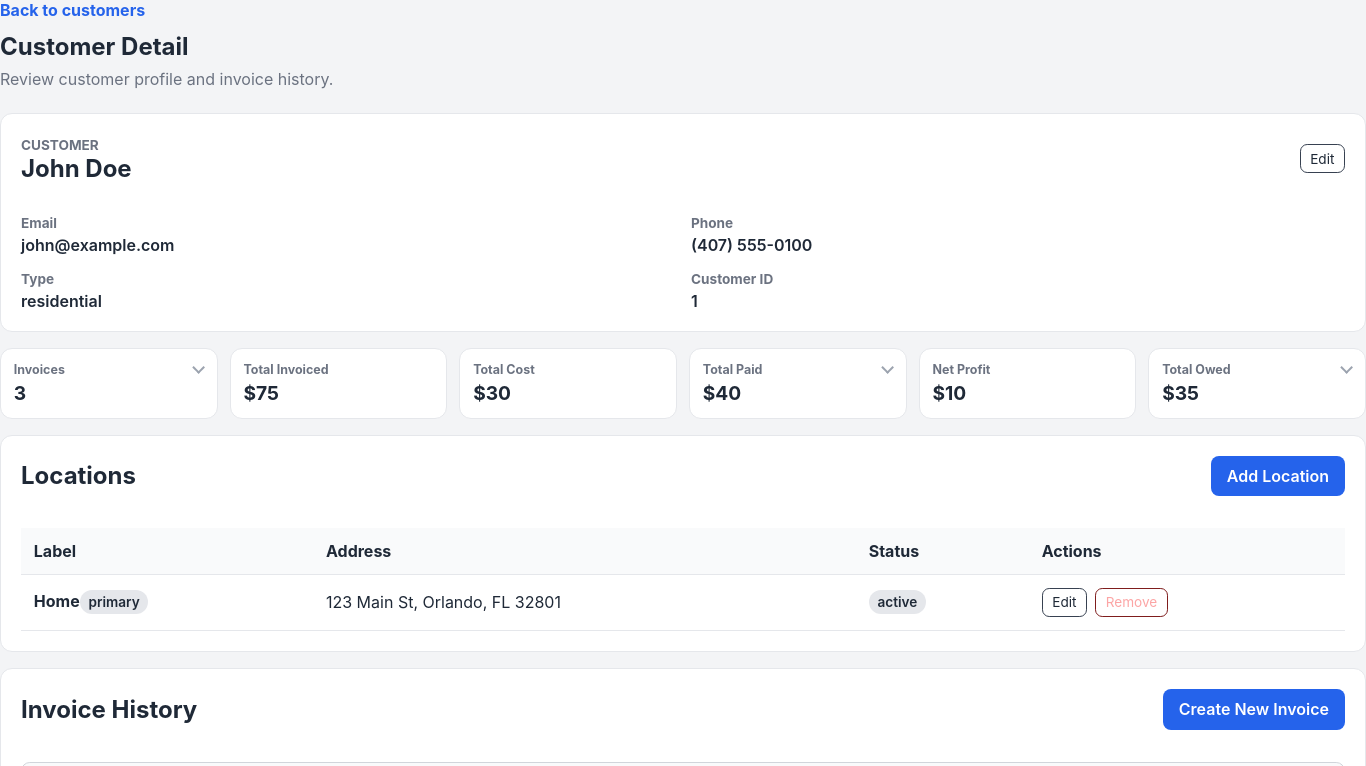
Test: CustomerDetailPage › opens an add location dialog from the locations section
The width and height of the screenshot is (1366, 766).
Click the button "Add Location": (1278, 476) [1211, 456, 1345, 496]
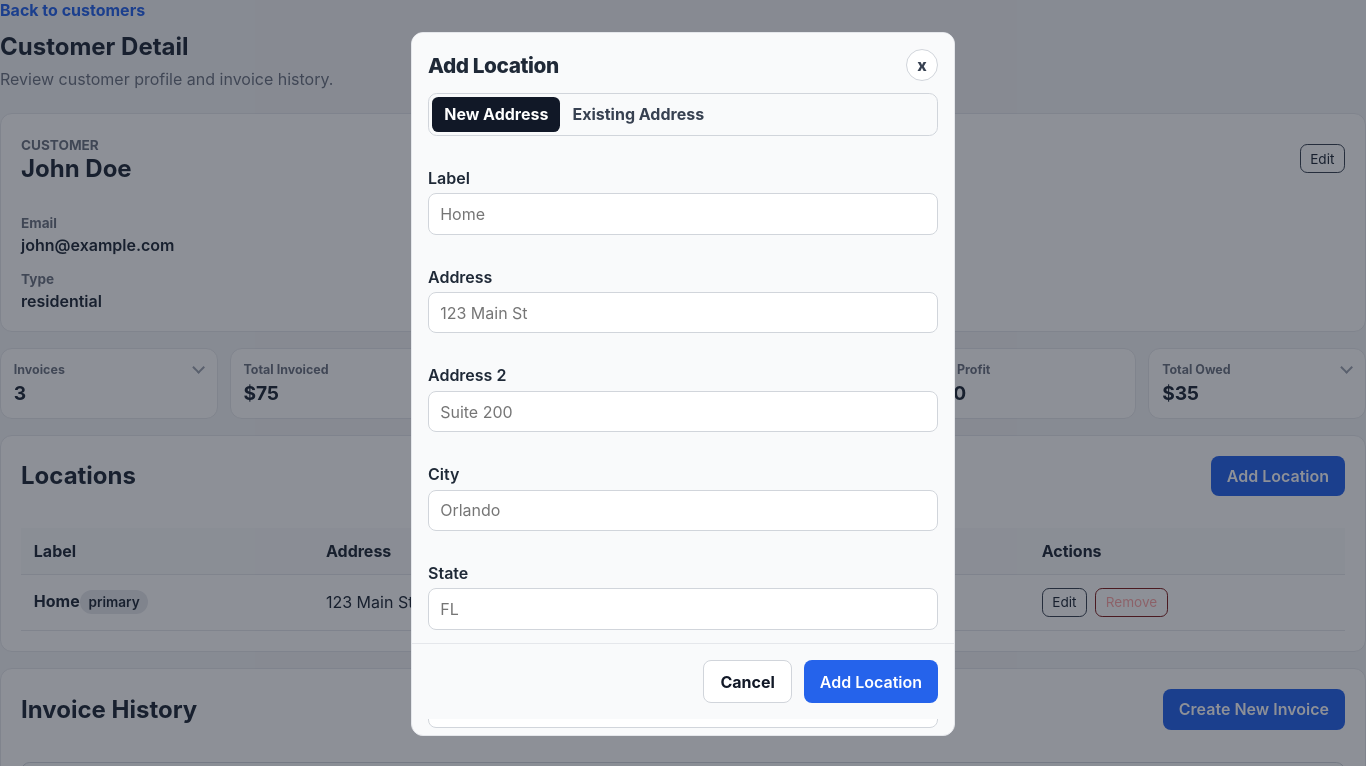
Check: the dialog "Add Location" is shown, box [411, 32, 955, 736]
Check: the button "New Address" is shown, box [432, 97, 560, 132]
Check: the button "Existing Address" is shown, box [560, 97, 716, 132]
